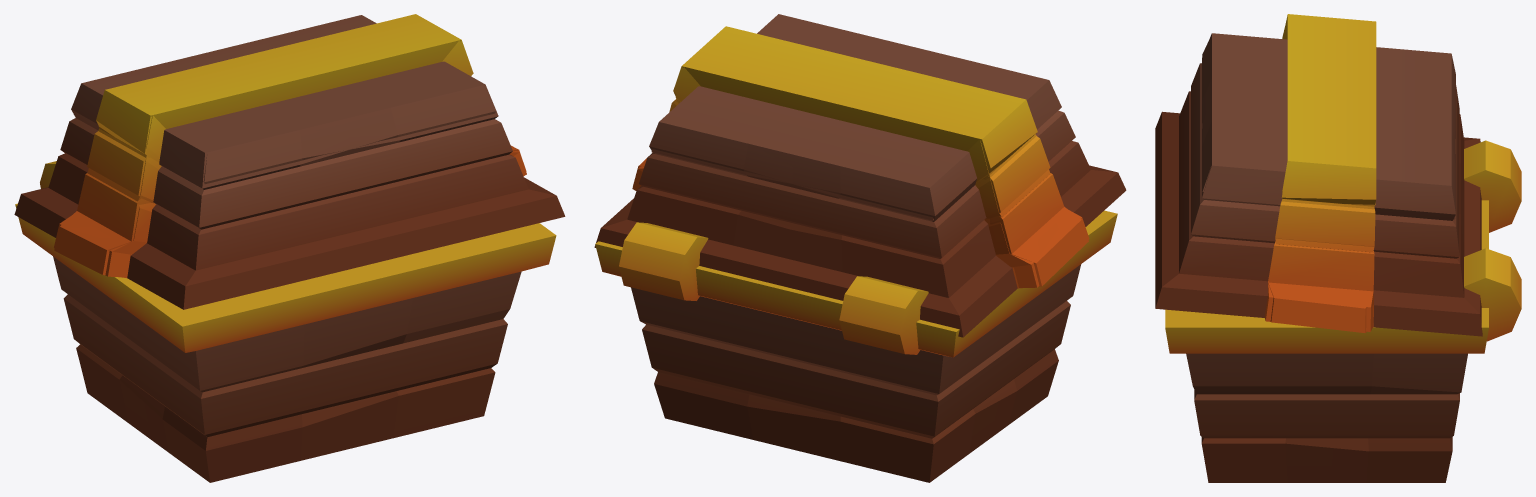
File: СЕГМЕНТ СУНДУК.fbx
3 renders of one model, left to right at view 1: azimuth 30°, elevation 25°; view 2: azimuth 150°, elevation 25°; view 3: azimuth 270°, elevation 25°, orthographic. The views are drawn at different scales.
Visible parts, largest first — view 1: Cylinder.010, Cube.002; view 2: Cylinder.010, Cube.002; view 3: Cylinder.010, Cube.002.
Boxes of the visible parts, x1,y1,x2,y2 form: Cylinder.010: (14,14,565,309); Cube.002: (15,203,556,482); Cylinder.010: (594,14,1126,354); Cube.002: (595,210,1117,482); Cylinder.010: (1155,14,1521,341); Cube.002: (1165,200,1488,482).
Bounding box in the file's own units: 618 × 476 × 478.
